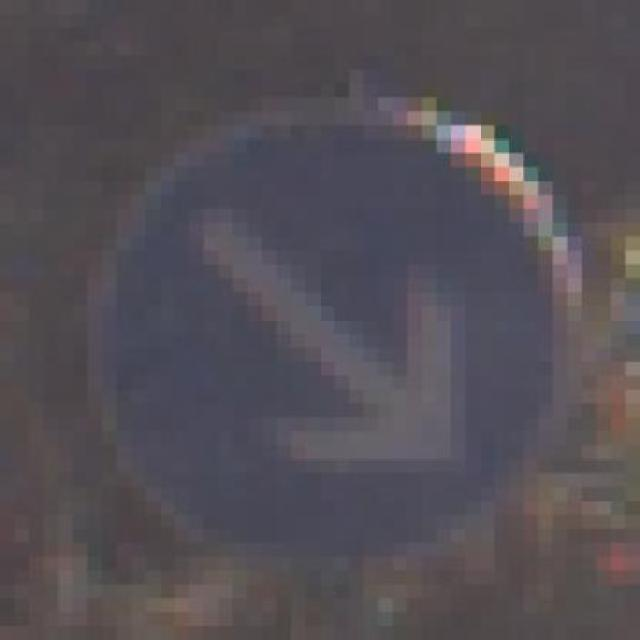Keep-Right: (87, 83, 596, 599)
